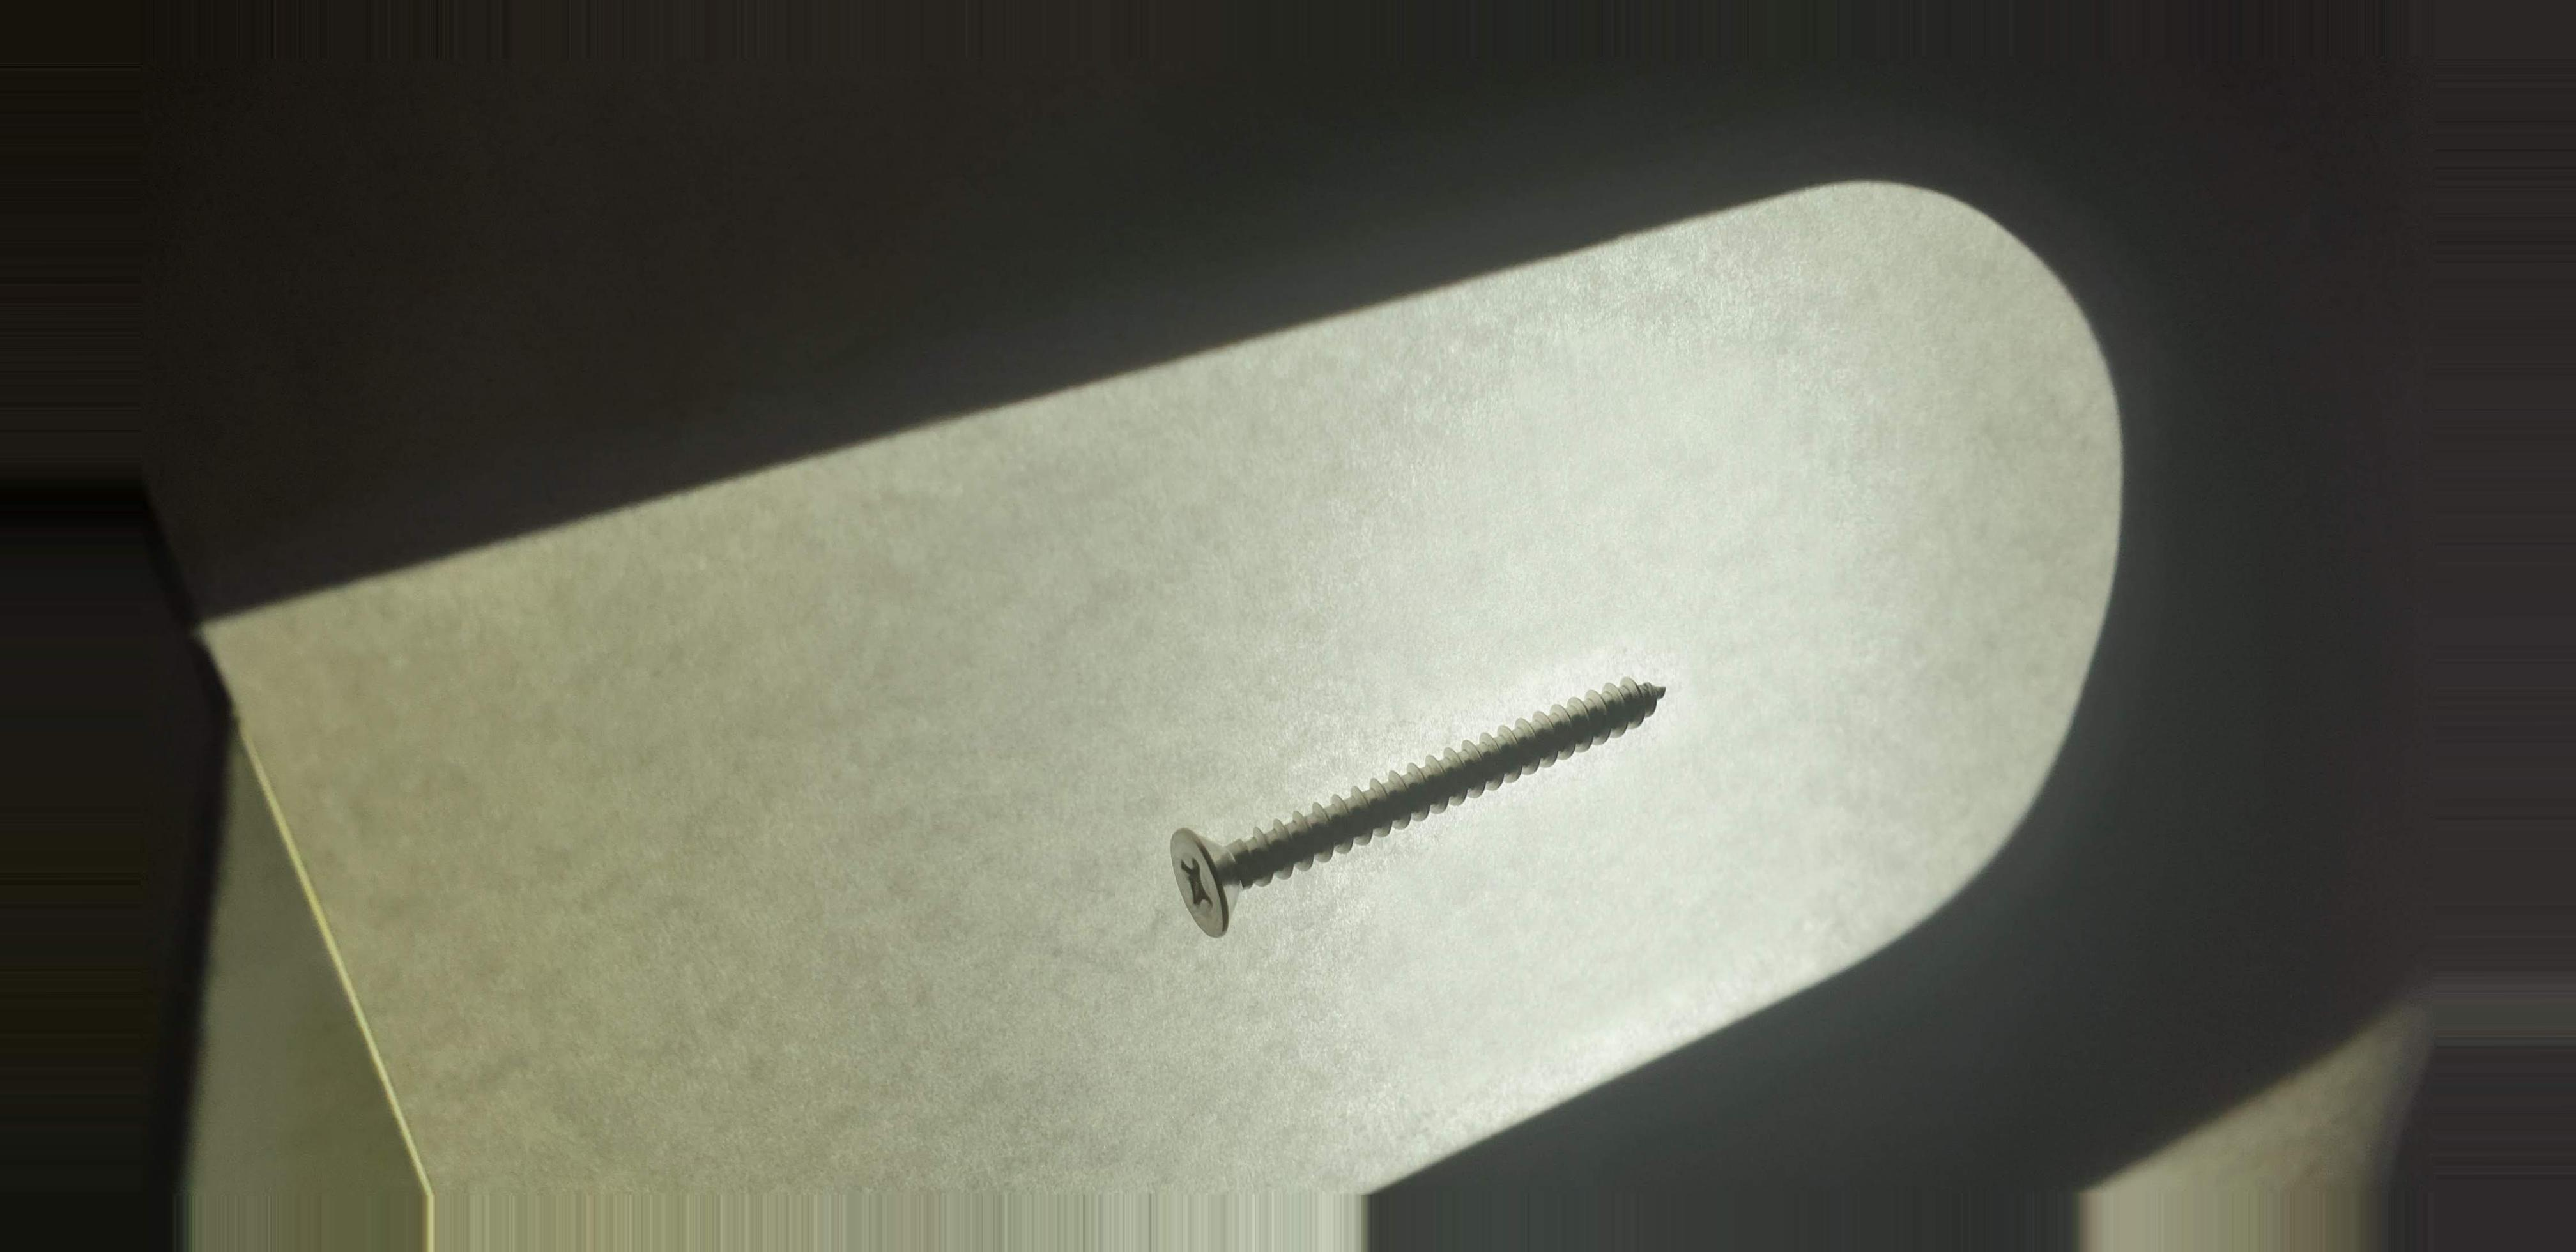S001: (1125, 661, 1715, 971)
